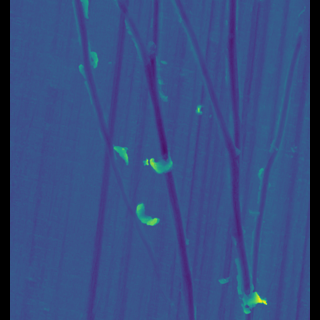Loch: (75, 0, 195, 319), (171, 0, 246, 301), (243, 25, 296, 293), (141, 152, 175, 176), (228, 288, 262, 311), (133, 201, 161, 227), (113, 142, 130, 164)
